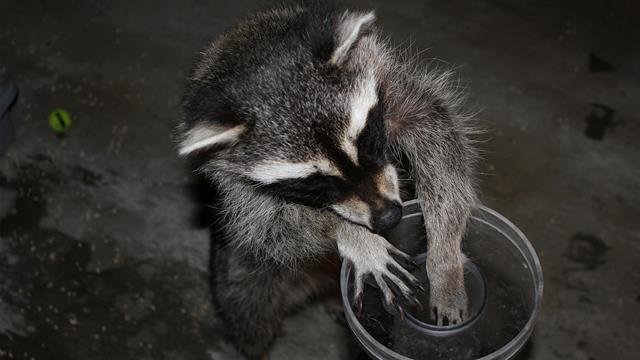raccoon: (171, 11, 487, 356)
